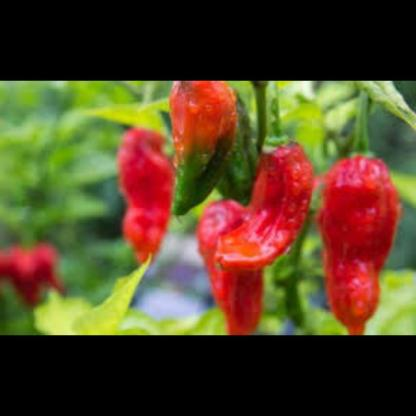hot pepper: (315, 88, 406, 333), (207, 94, 321, 282), (156, 80, 249, 224), (115, 120, 180, 278), (1, 236, 64, 300)
